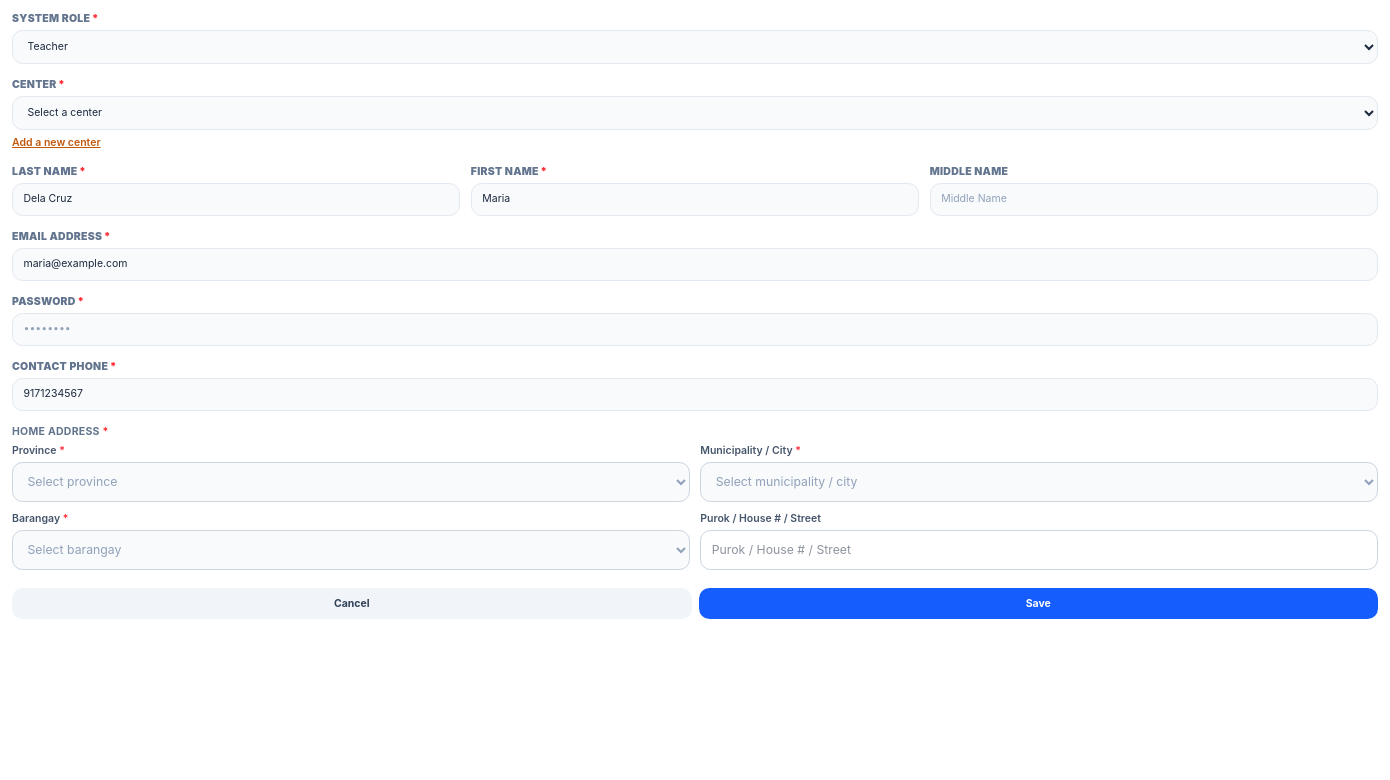
AccountForm center (Admin) › shows the server's message when a center cannot be added
Click the button "Add a new center".
click(56, 143)  # box x1=12 y1=136 x2=101 y2=150
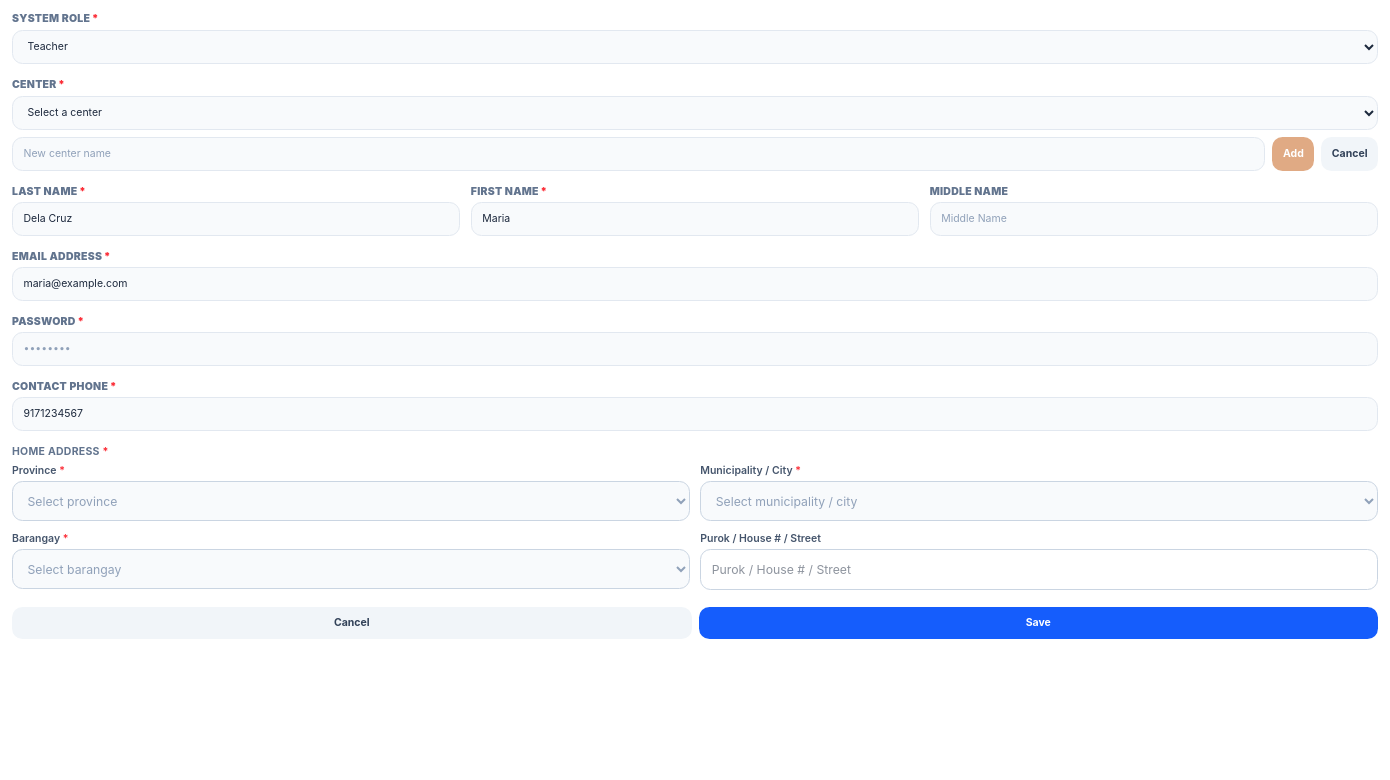
Type "ECCD Angeles" into the field labelled "New center name".
click(639, 154); type("ECCD Angeles")  # box x1=12 y1=137 x2=1266 y2=170
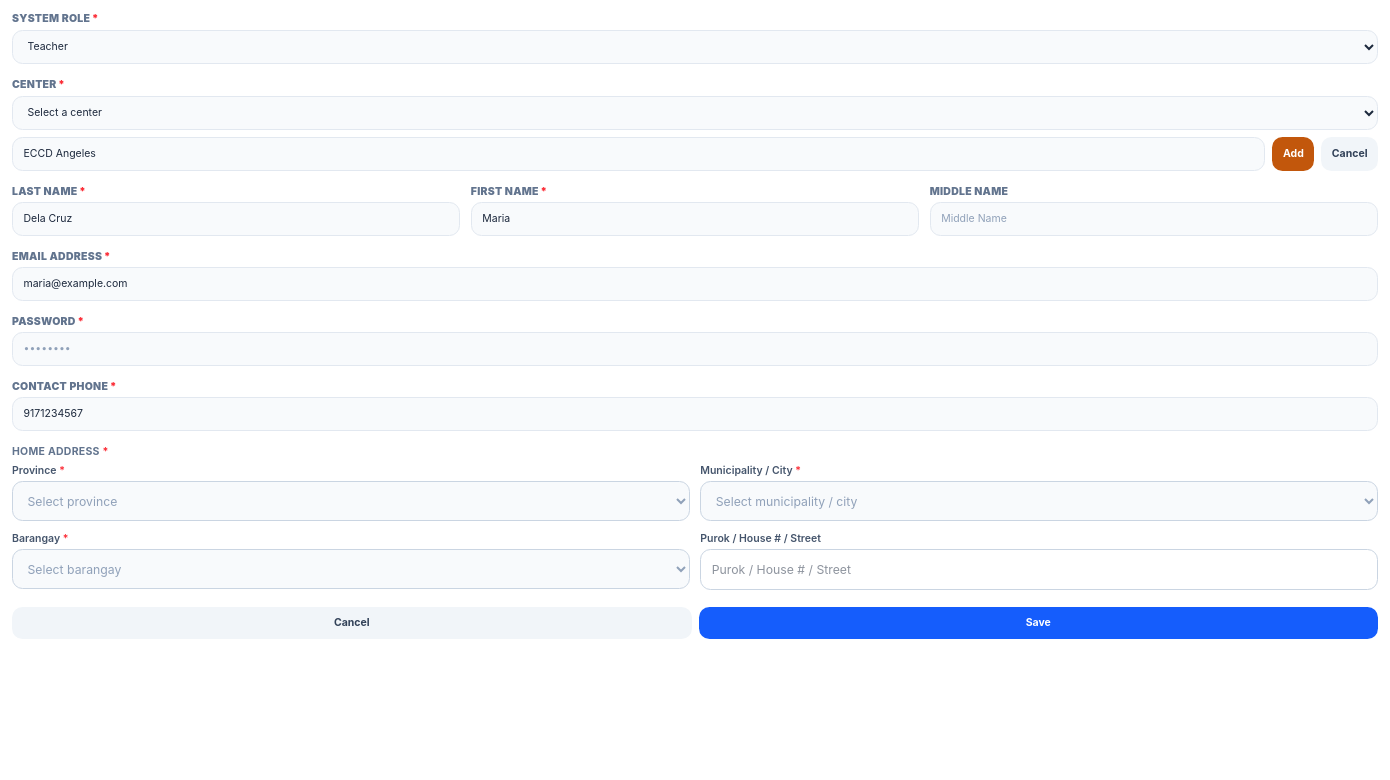
Click the button "Add".
click(1293, 154)  # box x1=1272 y1=137 x2=1314 y2=170
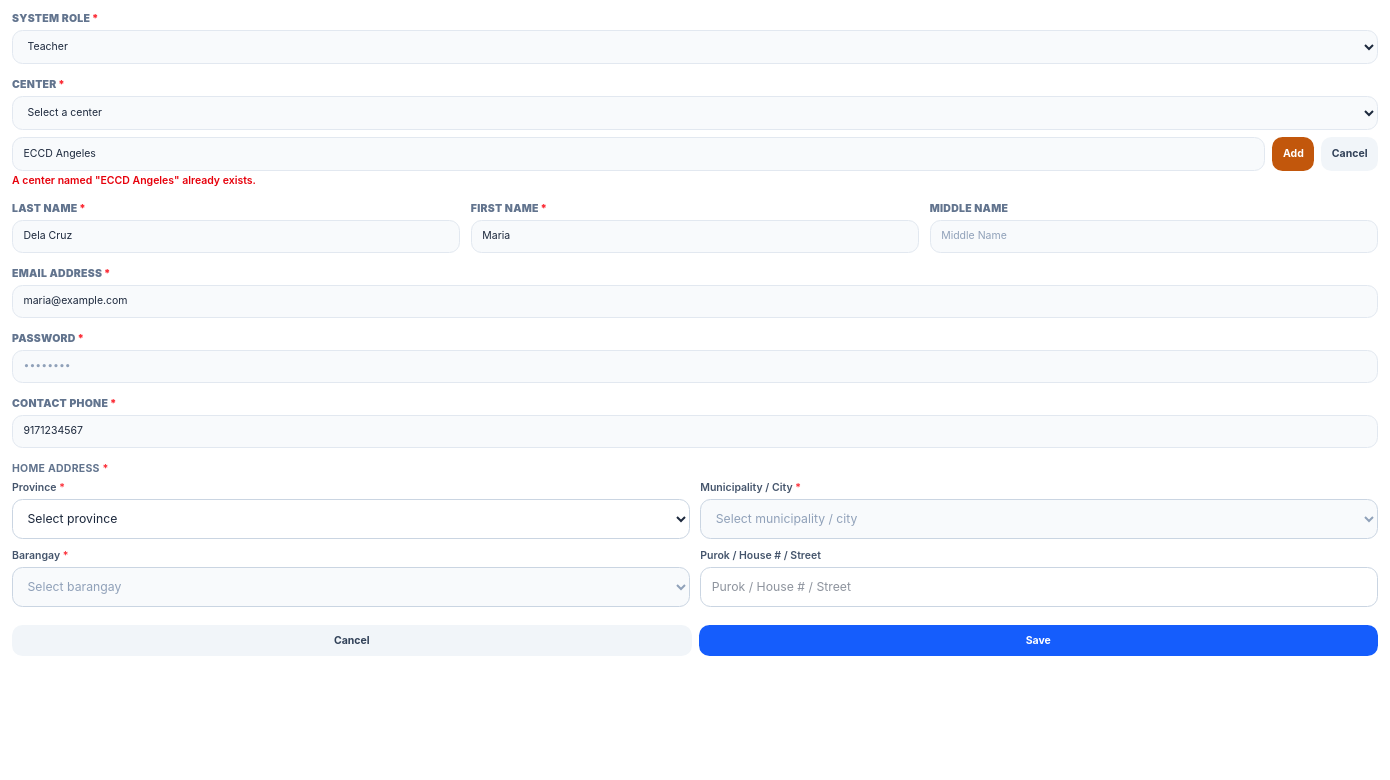
Expected: the text "A center named \"ECCD Angeles\" already exists." is shown, x1=12 y1=174 x2=256 y2=187
